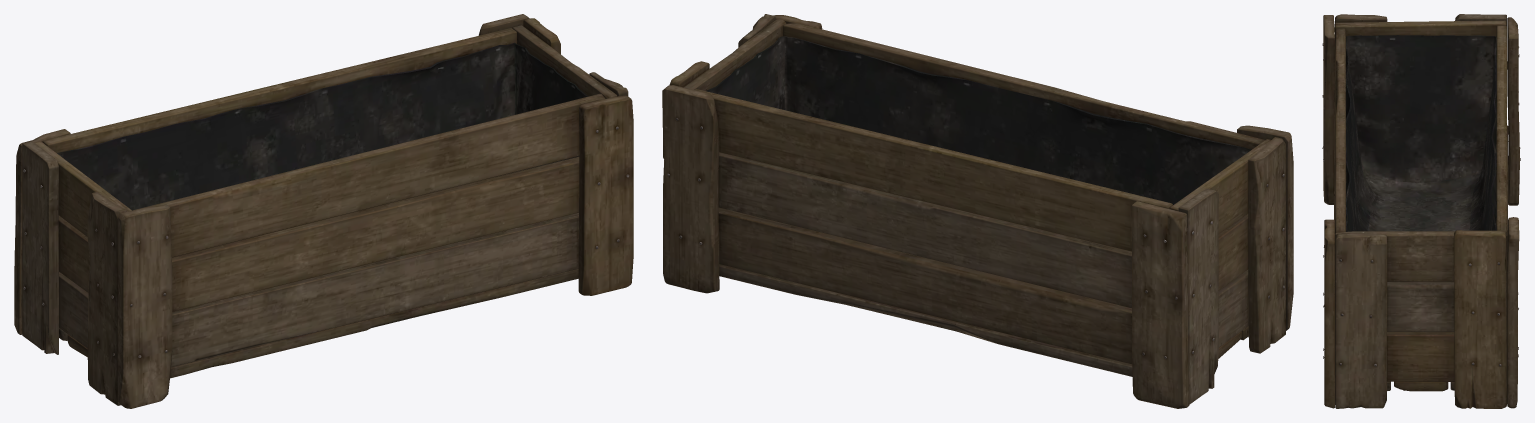
The model's file is planter_box_02.optimized.glb.
The picture shows the model from 3 angles, left to right: view 1: azimuth 30°, elevation 25°; view 2: azimuth 150°, elevation 25°; view 3: azimuth 270°, elevation 25°; orthographic projection. The views are drawn at different scales.
Parts seen in each view (by area): view 1: planter_box_02; view 2: planter_box_02; view 3: planter_box_02.
Boxes of the visible parts, x1=… form: planter_box_02: x1=14, y1=14, x2=633, y2=408; planter_box_02: x1=662, y1=14, x2=1293, y2=408; planter_box_02: x1=1322, y1=14, x2=1520, y2=408.
Size of the model in its own units: 1.25 by 0.4534 by 0.4673.
Materials: 1 (1 with a texture image).
